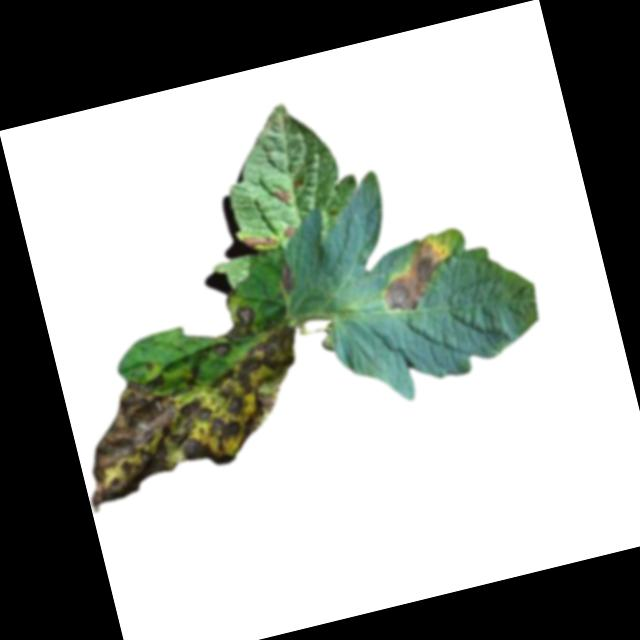Early_blight: (64, 325, 327, 512), (368, 232, 458, 319), (206, 301, 260, 346), (238, 229, 278, 252), (274, 262, 298, 294), (269, 181, 293, 204), (281, 224, 298, 240)
